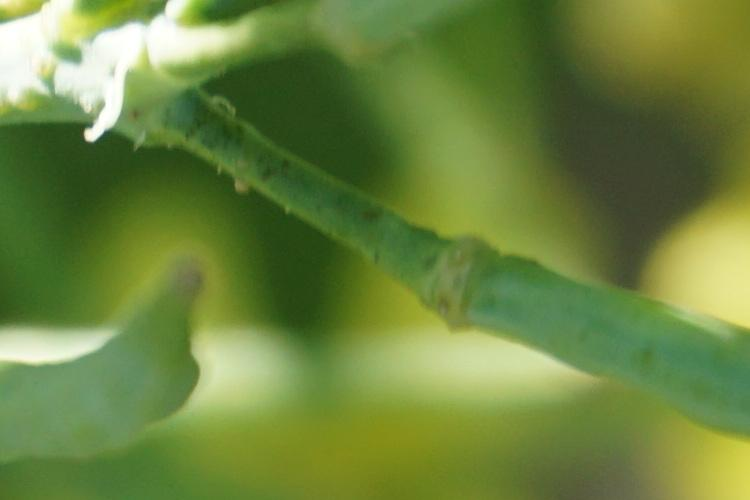pod: (16, 235, 255, 462)
